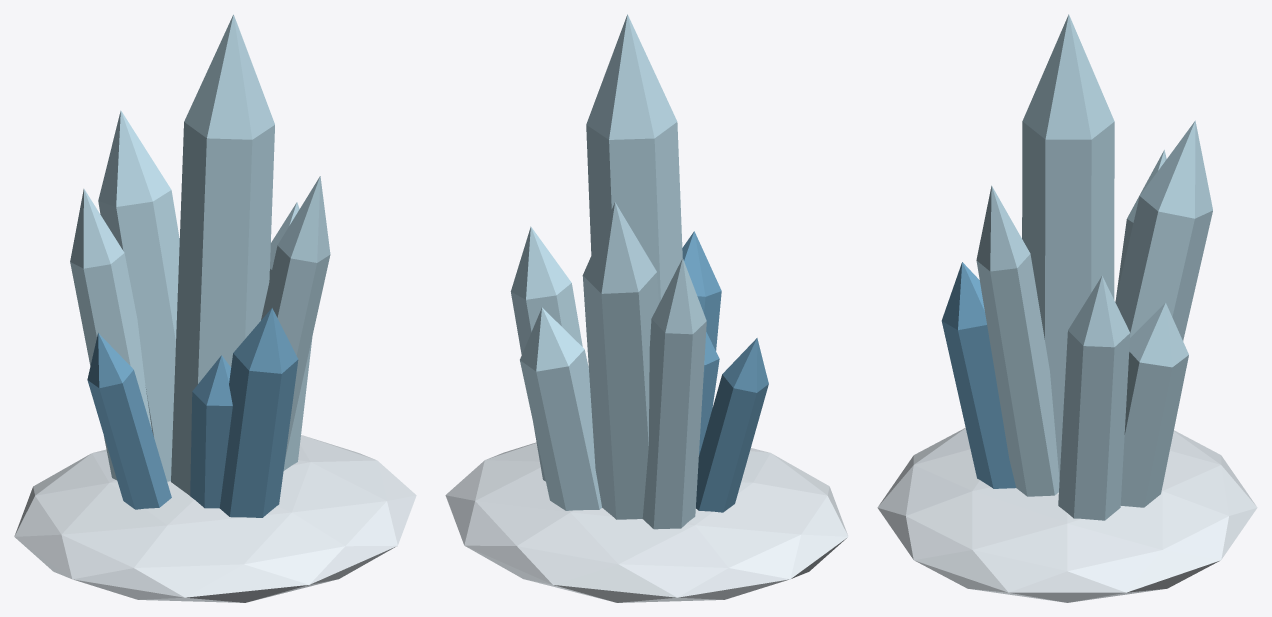
File: runtime.glb
The picture shows the model from 3 angles, left to right: view 1: azimuth 30°, elevation 25°; view 2: azimuth 150°, elevation 25°; view 3: azimuth 270°, elevation 25°; orthographic projection.
Visible parts, largest first — view 1: frozen_crystal_ice_nocol, frozen_crystal_snow_noshadow_nocol, frozen_crystal_deep_nocol; view 2: frozen_crystal_ice_nocol, frozen_crystal_snow_noshadow_nocol, frozen_crystal_deep_nocol; view 3: frozen_crystal_ice_nocol, frozen_crystal_snow_noshadow_nocol, frozen_crystal_deep_nocol.
Part boxes in pixels (<box>): frozen_crystal_ice_nocol: <box>70,14,330,495</box>; frozen_crystal_snow_noshadow_nocol: <box>14,435,416,602</box>; frozen_crystal_deep_nocol: <box>87,308,298,517</box>; frozen_crystal_ice_nocol: <box>510,14,706,529</box>; frozen_crystal_snow_noshadow_nocol: <box>445,442,848,602</box>; frozen_crystal_deep_nocol: <box>682,231,768,512</box>; frozen_crystal_ice_nocol: <box>976,14,1212,520</box>; frozen_crystal_snow_noshadow_nocol: <box>877,428,1257,602</box>; frozen_crystal_deep_nocol: <box>941,262,1016,488</box>.
Bounding box in the file's own units: 3.19 × 4.72 × 3.01.
